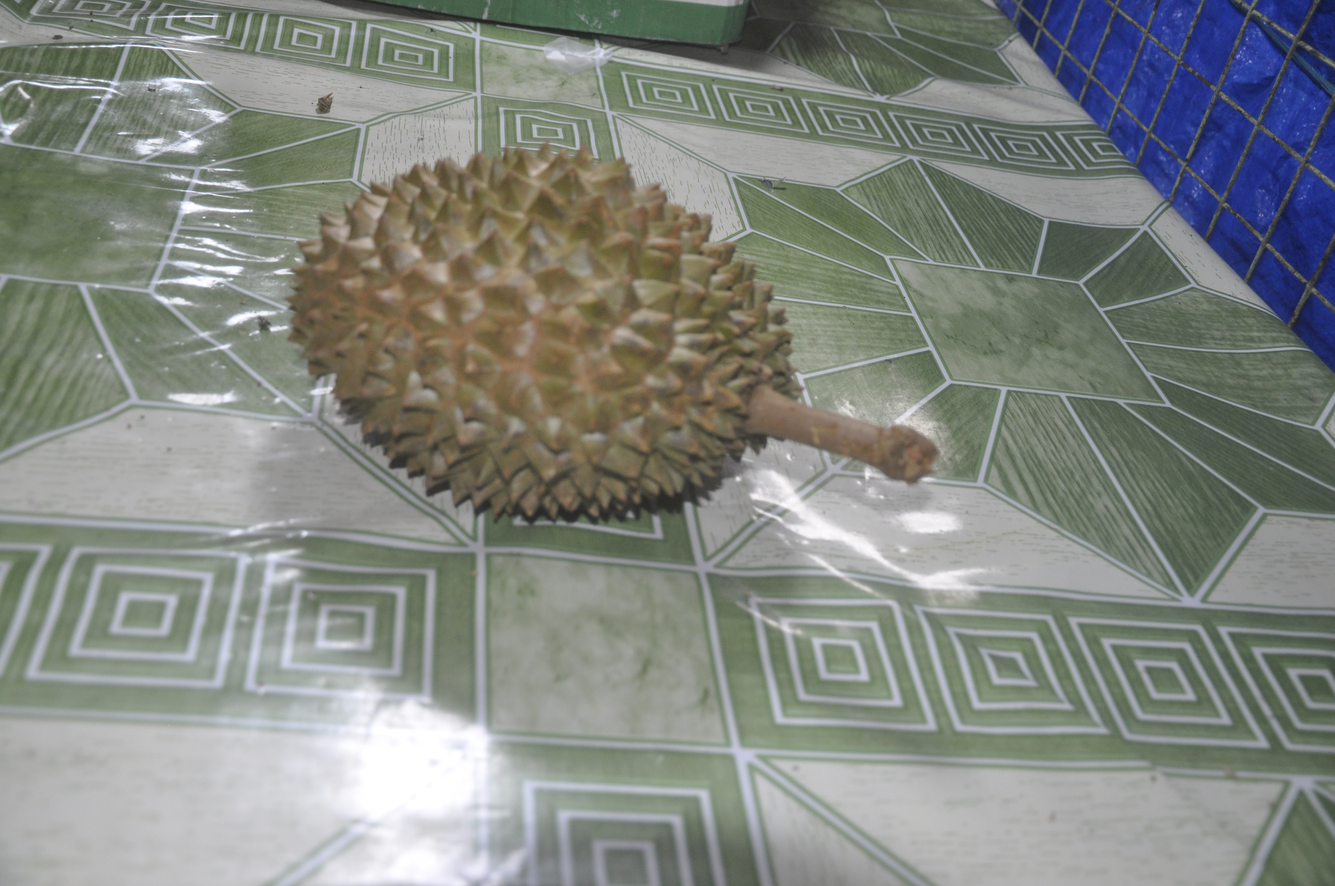mature: (289, 145, 936, 519)
